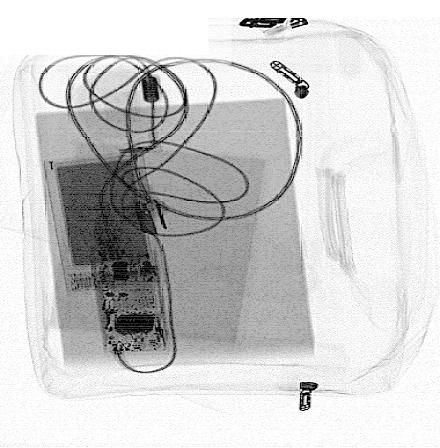Powerbank: (45, 145, 165, 297)
